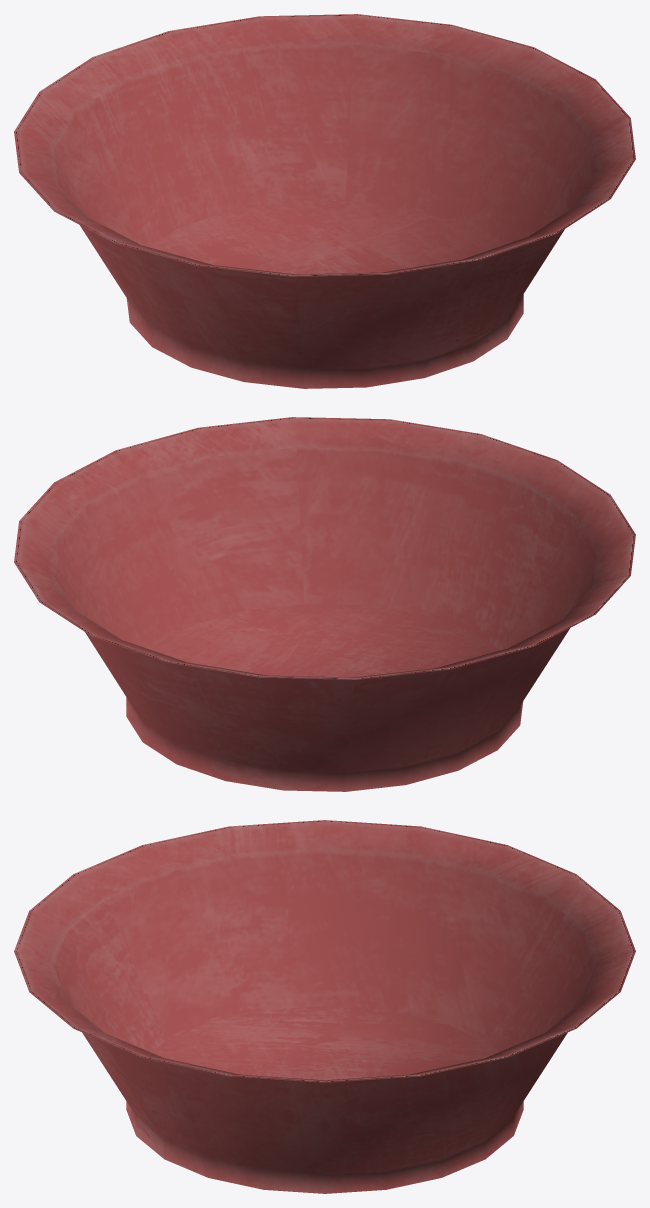
The model's file is fbx_Bacia.fbx.
3 renders of one model, top to bottom at view 1: azimuth 30°, elevation 25°; view 2: azimuth 150°, elevation 25°; view 3: azimuth 270°, elevation 25°, orthographic.
Visible parts, largest first — view 1: pCylinder33; view 2: pCylinder33; view 3: pCylinder33.
Part boxes in pixels (left/top/right/bottom): pCylinder33: left=14, top=14, right=635, bottom=388; pCylinder33: left=14, top=417, right=635, bottom=791; pCylinder33: left=14, top=820, right=635, bottom=1193.
Bounding box in the file's own units: 0.2474 × 0.0696 × 0.2474.
1 material, 1 textured.
